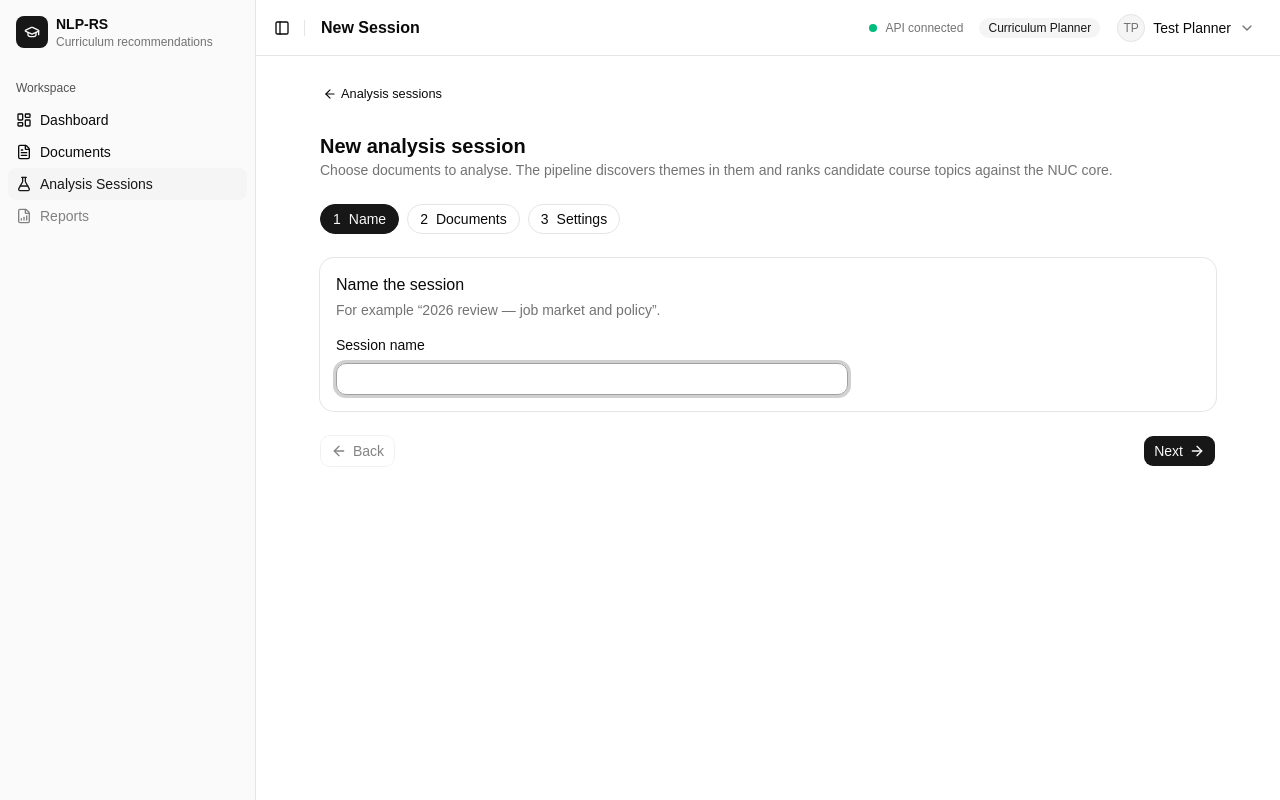
Test: NewSessionPage › requires a name and at least one document before moving on
Click the button "Next" at {"x": 1180, "y": 451}, box [1143,435,1216,467]
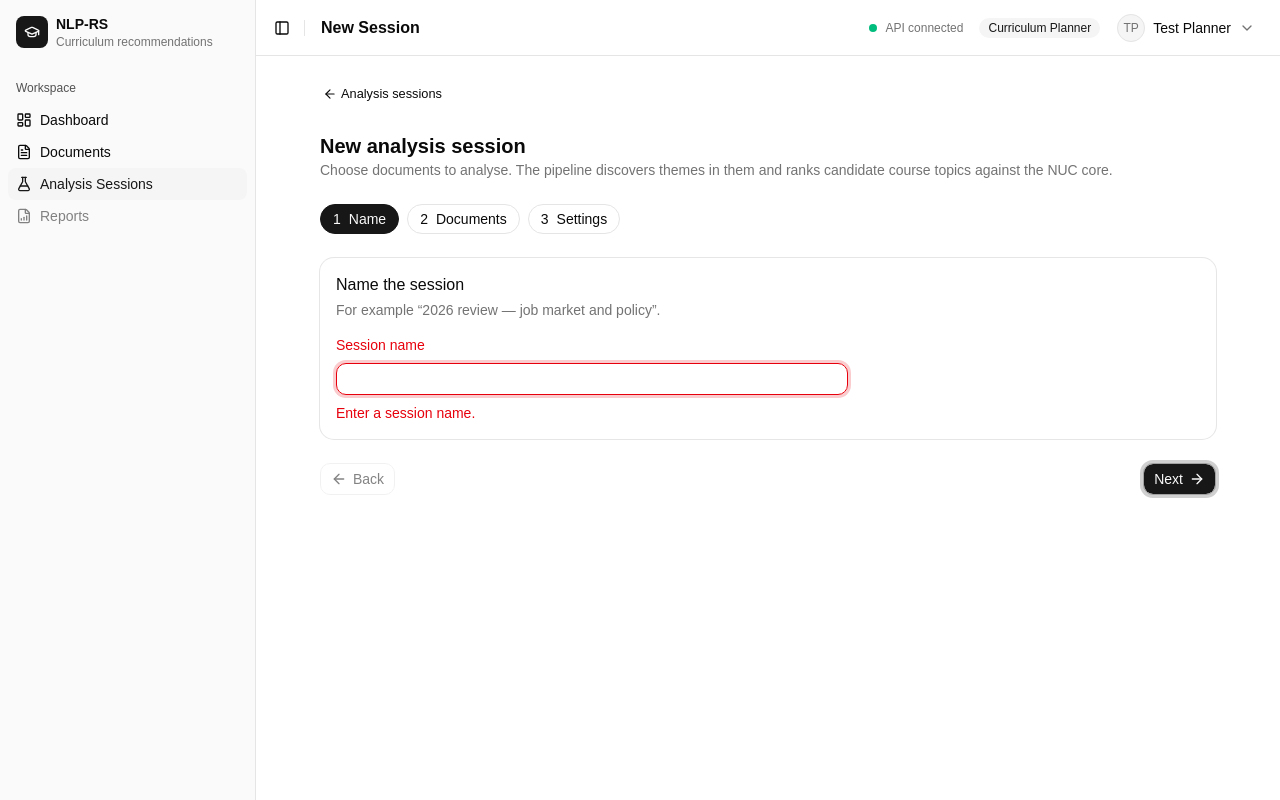
Expected: the text "Enter a session name." is shown, [336,405,475,421]
Type "Synthetic review" into the field labelled "Session name" at {"x": 592, "y": 379}, box [336,363,848,395]
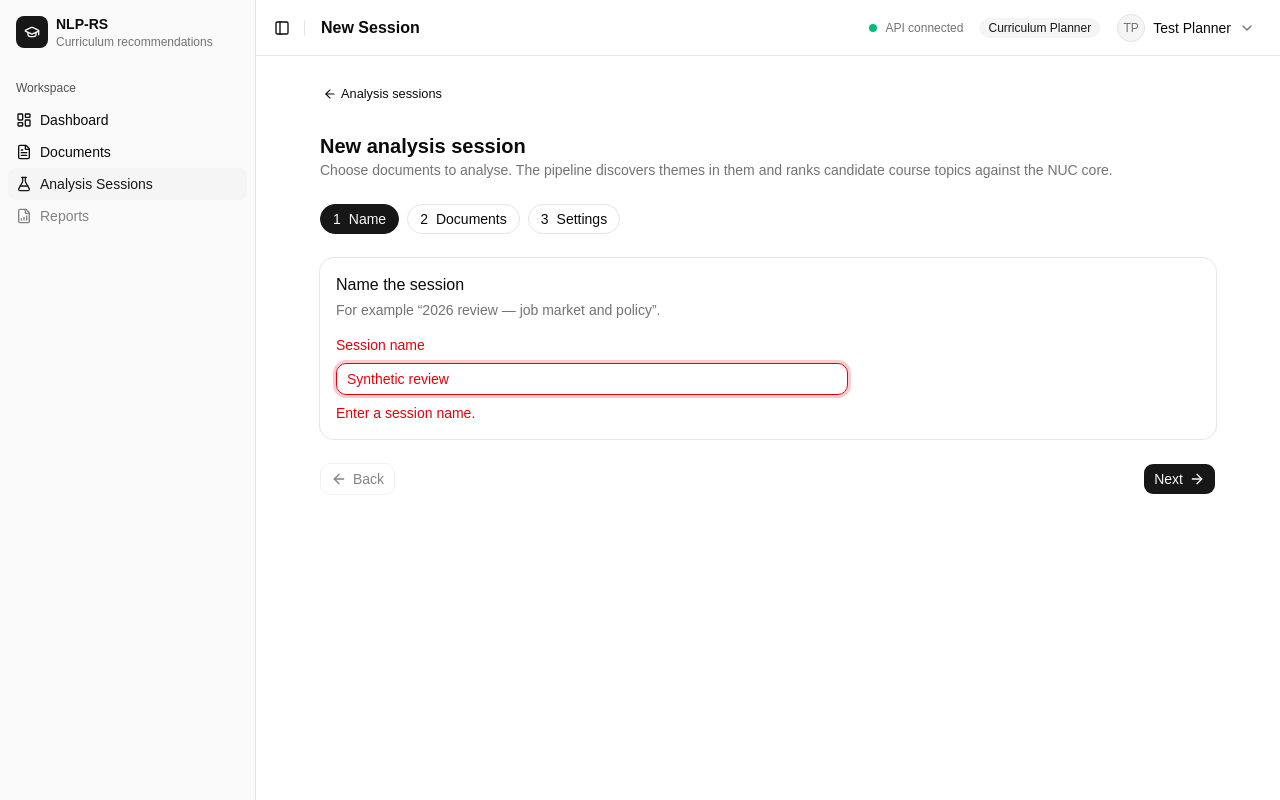
Click the button "Next" at {"x": 1180, "y": 479}, box [1143,463,1216,495]
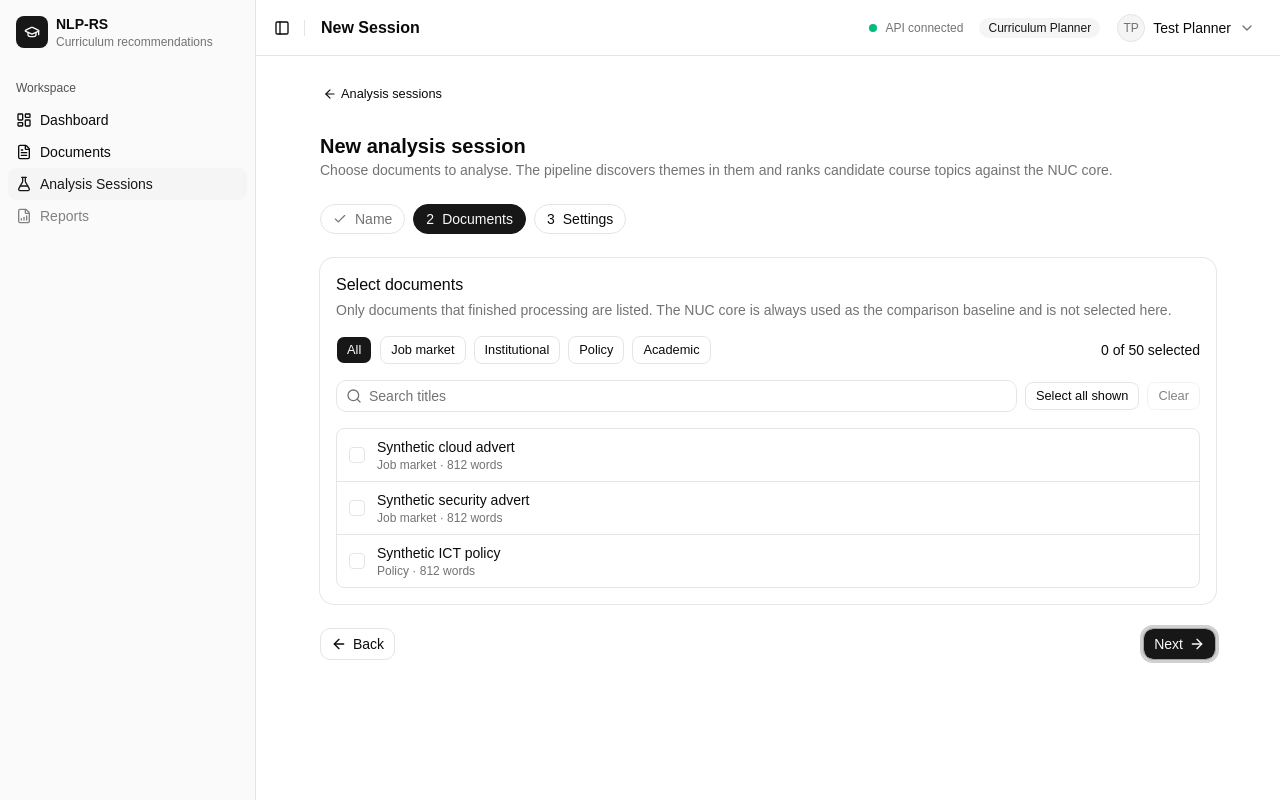
Expected: the list named "Ready documents" is shown, [336,428,1200,588]
Click the button "Next" at {"x": 1180, "y": 644}, box [1143,628,1216,660]
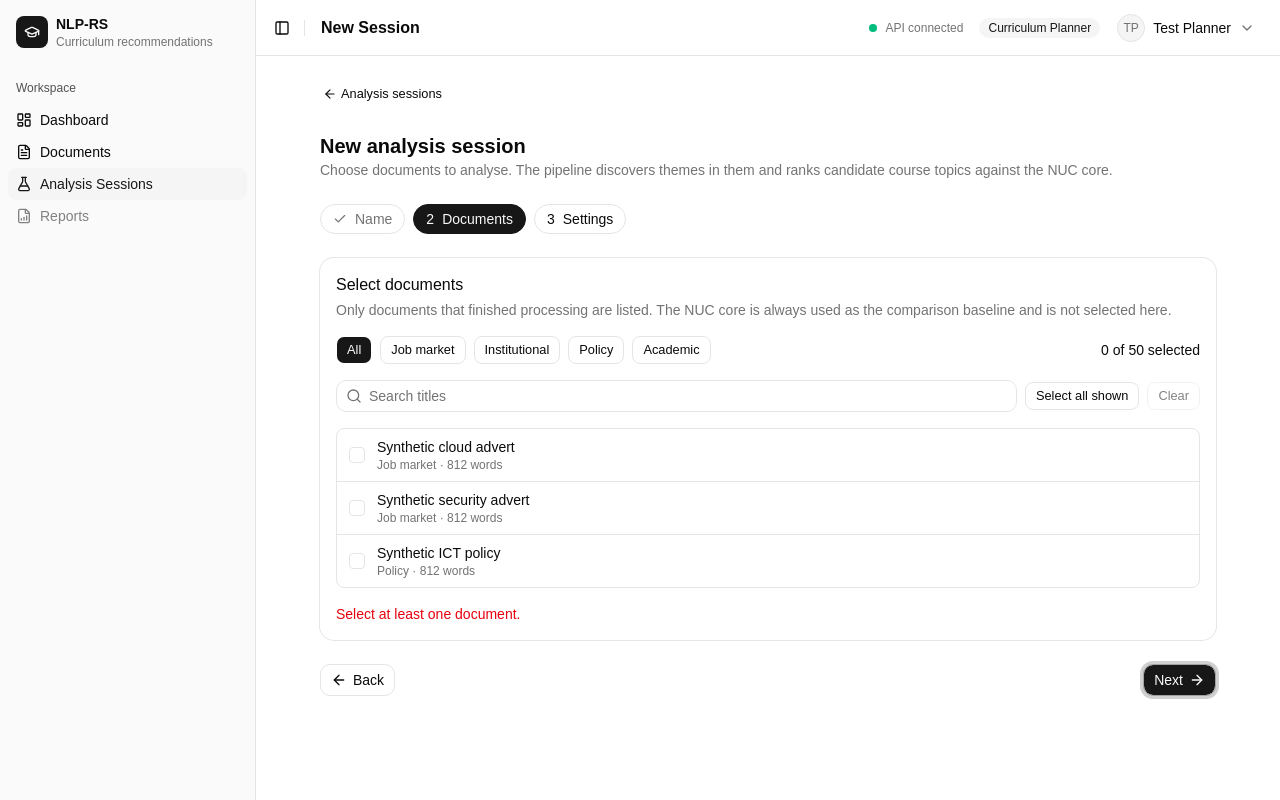
Expected: the text "Select at least one document." is shown, [336,606,520,622]
